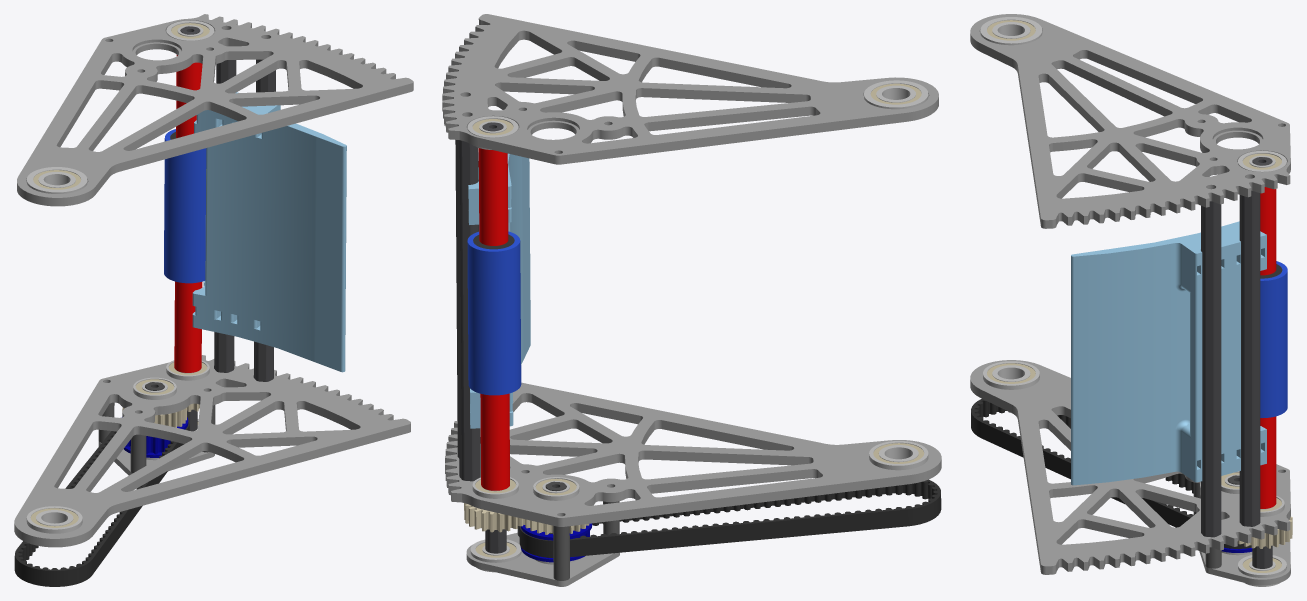
Rendered from 9140-26-SHT3-hood.glb.
3 renders of one model, left to right at view 1: azimuth 30°, elevation 25°; view 2: azimuth 150°, elevation 25°; view 3: azimuth 270°, elevation 25°, orthographic. The views are drawn at different scales.
Parts seen in each view (by area): view 1: Part 20, 9140-26-SHT3-1-Mirrored, 9140-26-SHT3-1, Sushi Roller (50A, 3/8" Hex Bore) (×3), 90T 5M 9mm Wide Belt, top roller spacer (×2), 1/2" Rounded Hex (13.75mm) ID Bearing (1.125" OD, 0.313" WD, (×2), 3/8" ThunderHex (7.375 in) (×2), 3/8" Rounded Hex (10.25mm) ID Bearing (0.875" OD, 0.281" WD, (×2), 9140-26-SHT3-2, 0.196" ID Custom Spacer (0.313" OD,1.125" L), redirect_pulley; view 2: 9140-26-SHT3-1-Mirrored, 9140-26-SHT3-1, 90T 5M 9mm Wide Belt, Sushi Roller (50A, 3/8" Hex Bore) (×3), top roller spacer (×2), 3/8" ThunderHex (7.375 in) (×2), Part 20, 1/2" Rounded Hex (13.75mm) ID Bearing (1.125" OD, 0.313" WD, (×2), 3/8" Rounded Hex (10.25mm) ID Bearing (0.875" OD, 0.281" WD, (×3), 9140-26-SHT3-2, 22t Aluminum Spur Gear (20 DP, 3/8" Hex Bore), 0.196" ID Custom Spacer (0.313" OD,1.125" L) (+1 smaller); view 3: Part 20, 9140-26-SHT3-1-Mirrored, 9140-26-SHT3-1, 3/8" ThunderHex (7.375 in) (×2), Sushi Roller (50A, 3/8" Hex Bore) (×3), 90T 5M 9mm Wide Belt, 1/2" Rounded Hex (13.75mm) ID Bearing (1.125" OD, 0.313" WD, (×2), top roller spacer (×2), 3/8" Rounded Hex (10.25mm) ID Bearing (0.875" OD, 0.281" WD, (×2), 9140-26-SHT3-2, 22t Aluminum Spur Gear (20 DP, 3/8" Hex Bore), 3/8" ThunderHex (9.101 in).
Part boxes in pixels (x1=…): Part 20: x1=192, y1=92, x2=346, y2=372; 9140-26-SHT3-1-Mirrored: x1=17, y1=14, x2=413, y2=206; 9140-26-SHT3-1: x1=14, y1=355, x2=410, y2=547; Sushi Roller (50A, 3/8" Hex Bore) (×3): x1=164, y1=129, x2=206, y2=283; 90T 5M 9mm Wide Belt: x1=14, y1=420, x2=189, y2=586; top roller spacer (×2): x1=174, y1=55, x2=202, y2=372; 1/2" Rounded Hex (13.75mm) ID Bearing (1.125" OD, 0.313" WD, (×2): x1=26, y1=167, x2=87, y2=533; 3/8" ThunderHex (7.375 in) (×2): x1=214, y1=59, x2=275, y2=381; 3/8" Rounded Hex (10.25mm) ID Bearing (0.875" OD, 0.281" WD, (×2): x1=133, y1=20, x2=214, y2=399; 9140-26-SHT3-2: x1=98, y1=441, x2=214, y2=475; 0.196" ID Custom Spacer (0.313" OD,1.125" L): x1=130, y1=434, x2=146, y2=473; redirect_pulley: x1=124, y1=417, x2=188, y2=457; 9140-26-SHT3-1-Mirrored: x1=442, y1=14, x2=938, y2=164; 9140-26-SHT3-1: x1=445, y1=382, x2=941, y2=526; 90T 5M 9mm Wide Belt: x1=519, y1=479, x2=941, y2=557; Sushi Roller (50A, 3/8" Hex Bore) (×3): x1=467, y1=231, x2=521, y2=395; top roller spacer (×2): x1=478, y1=148, x2=509, y2=490; 3/8" ThunderHex (7.375 in) (×2): x1=455, y1=140, x2=480, y2=481; Part 20: x1=468, y1=152, x2=530, y2=428; 1/2" Rounded Hex (13.75mm) ID Bearing (1.125" OD, 0.313" WD, (×2): x1=864, y1=80, x2=928, y2=470; 3/8" Rounded Hex (10.25mm) ID Bearing (0.875" OD, 0.281" WD, (×3): x1=467, y1=116, x2=579, y2=572; 9140-26-SHT3-2: x1=466, y1=532, x2=619, y2=586; 22t Aluminum Spur Gear (20 DP, 3/8" Hex Bore): x1=464, y1=503, x2=523, y2=532; 0.196" ID Custom Spacer (0.313" OD,1.125" L): x1=553, y1=526, x2=569, y2=580; Part 20: x1=1071, y1=221, x2=1266, y2=485; 9140-26-SHT3-1-Mirrored: x1=970, y1=14, x2=1290, y2=228; 9140-26-SHT3-1: x1=970, y1=360, x2=1290, y2=574; 3/8" ThunderHex (7.375 in) (×2): x1=1201, y1=190, x2=1260, y2=537; Sushi Roller (50A, 3/8" Hex Bore) (×3): x1=1260, y1=261, x2=1287, y2=418; 90T 5M 9mm Wide Belt: x1=971, y1=399, x2=1251, y2=548; 1/2" Rounded Hex (13.75mm) ID Bearing (1.125" OD, 0.313" WD, (×2): x1=980, y1=17, x2=1042, y2=389; top roller spacer (×2): x1=1260, y1=187, x2=1276, y2=508; 3/8" Rounded Hex (10.25mm) ID Bearing (0.875" OD, 0.281" WD, (×2): x1=1238, y1=150, x2=1286, y2=586; 9140-26-SHT3-2: x1=1199, y1=539, x2=1290, y2=585; 22t Aluminum Spur Gear (20 DP, 3/8" Hex Bore): x1=1238, y1=516, x2=1292, y2=548; 3/8" ThunderHex (9.101 in): x1=1252, y1=157, x2=1272, y2=568.
Size of the model in its own units: 0.2422 by 0.2332 by 0.1617.
